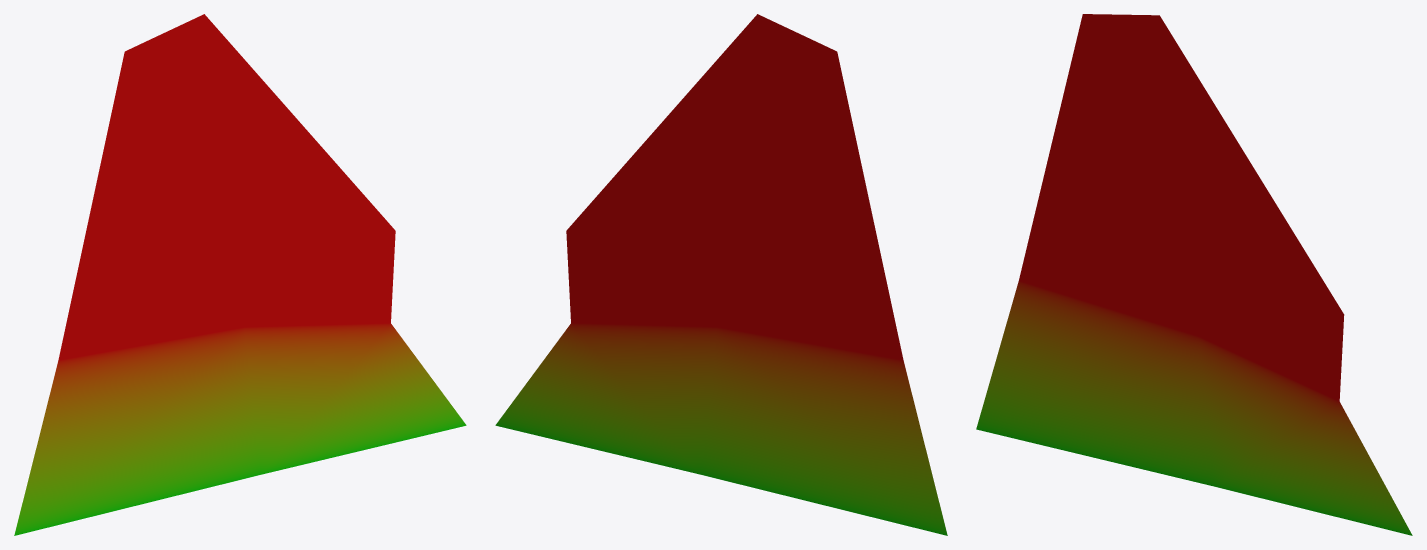
The model's file is Wild Grass_LOD4_Var8_vczndjqja.fbx.
3 renders of one model, left to right at view 1: azimuth 30°, elevation 25°; view 2: azimuth 150°, elevation 25°; view 3: azimuth 330°, elevation 25°, orthographic. The views are drawn at different scales.
Parts seen in each view (by area): view 1: _9xbc_Var8_LOD4; view 2: _9xbc_Var8_LOD4; view 3: _9xbc_Var8_LOD4.
Boxes of the visible parts, box(x1,y1,x2,y2) form: _9xbc_Var8_LOD4: box(14, 14, 466, 535); _9xbc_Var8_LOD4: box(495, 14, 947, 535); _9xbc_Var8_LOD4: box(976, 14, 1412, 535).
Size of the model in its own units: 91.34 by 91.73 by 8.73e-11.
